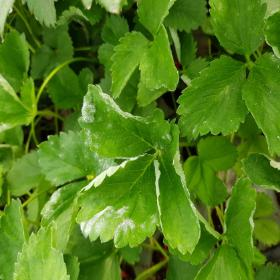Powdery Mildew Leaf: (74, 153, 160, 249), (77, 83, 173, 161), (154, 118, 201, 255), (36, 129, 115, 186), (40, 180, 91, 253), (223, 174, 257, 271)
